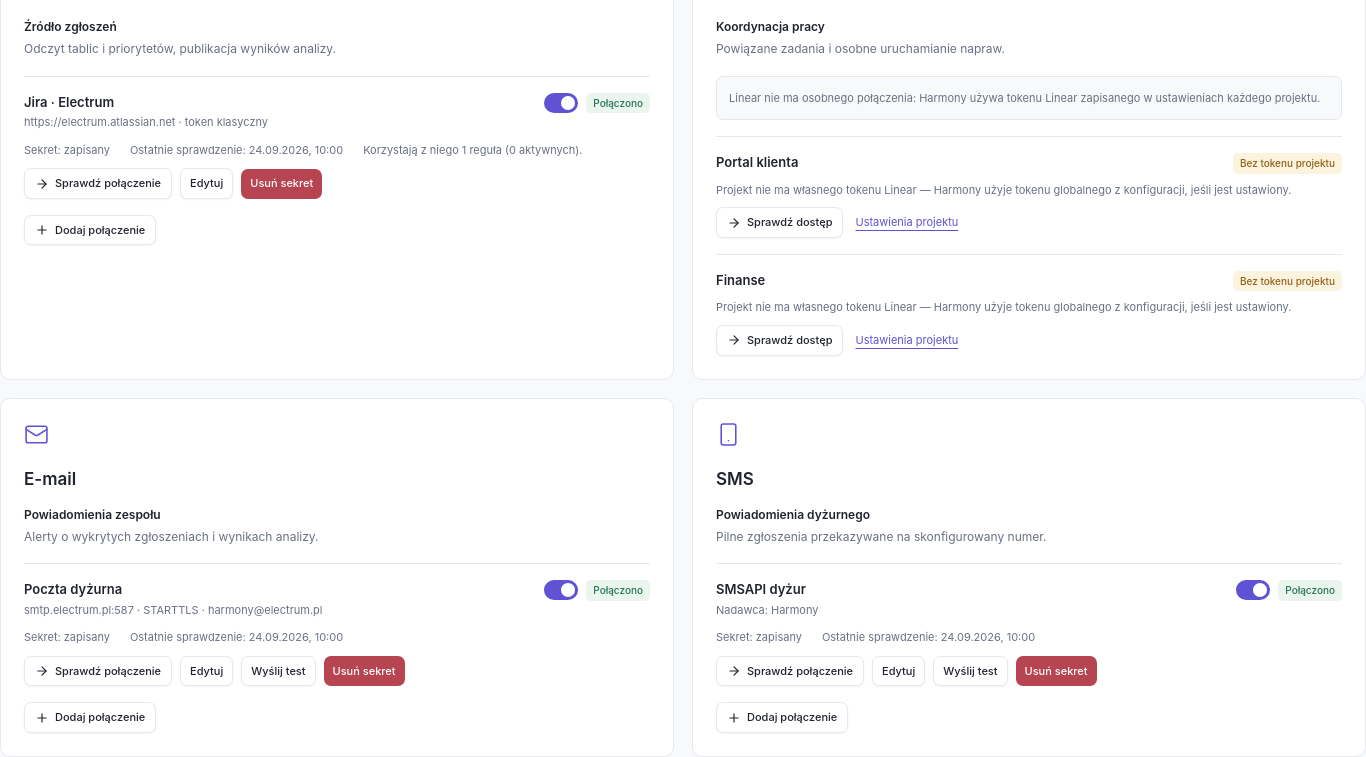
Test: IntegrationsPage — connection test and test-send (T25.4) › shows a failed check as a concrete hint, never as connected
The width and height of the screenshot is (1366, 757).
(page scrolled)
Click the button "Sprawdź połączenie" below "Poczta dyżurna" at (98, 671), box 24,656 -> 172,686
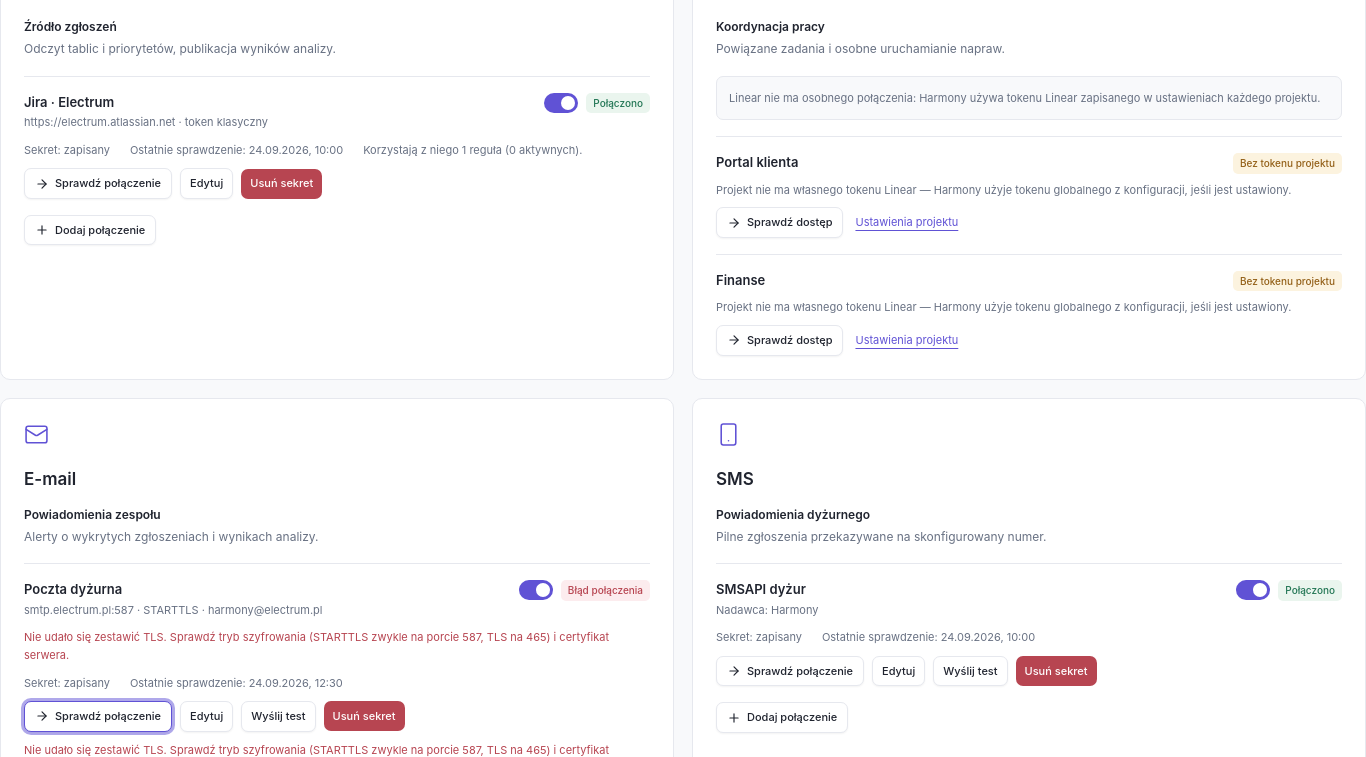
Expected: the text "Błąd połączenia" is shown, 561,580 -> 650,601
